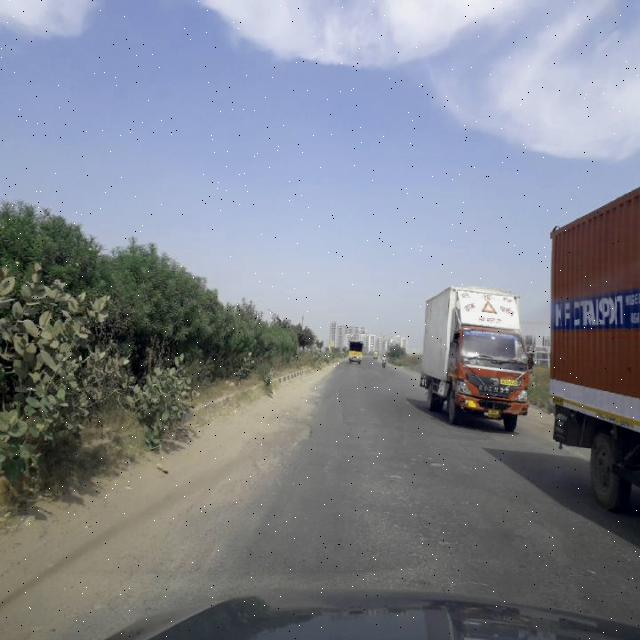D40: (292, 423, 322, 453)
